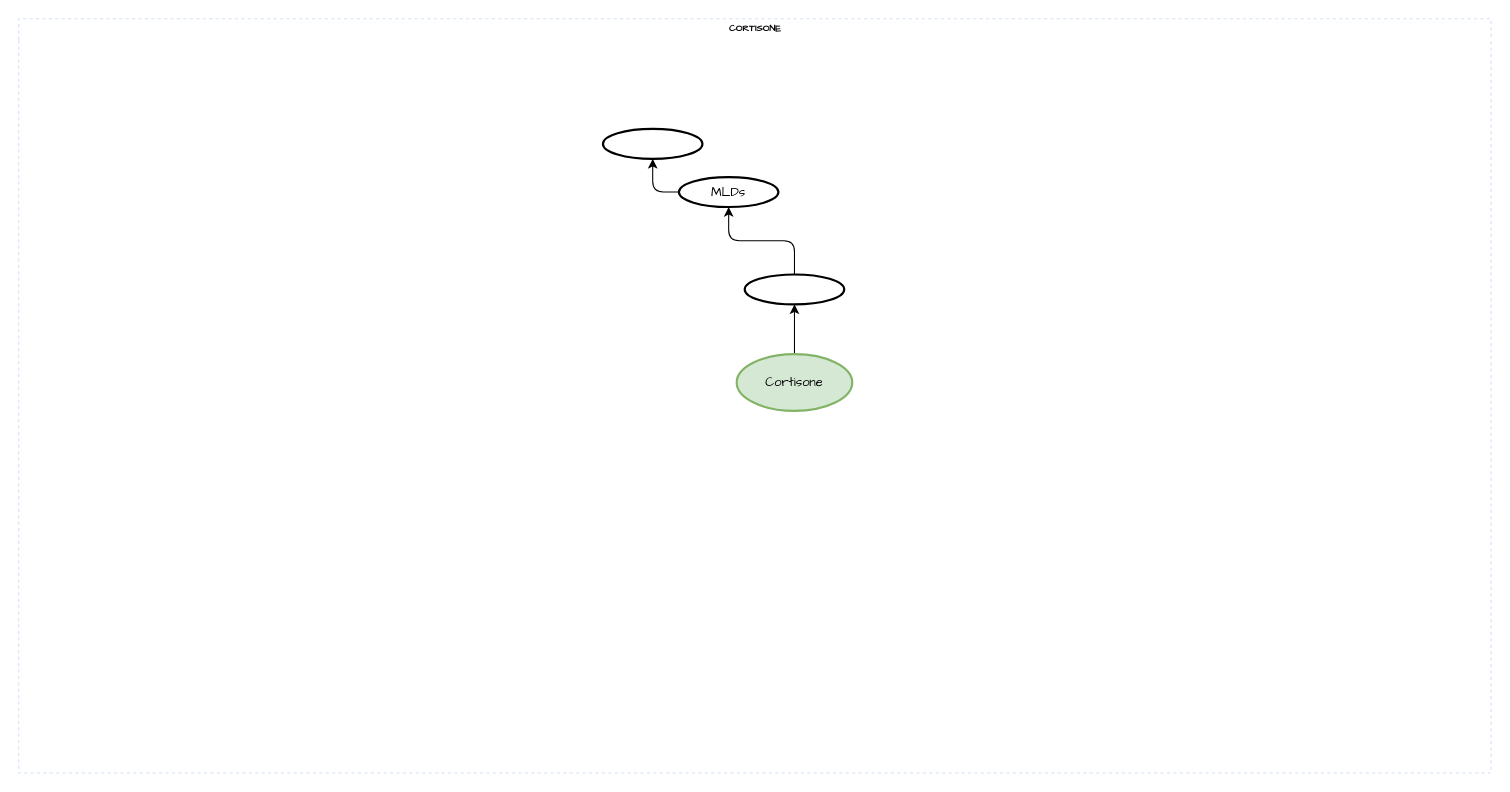
This 1510x792 diagram has some shape labels left out. Here are the shapes that lost their labels. From the top down, the centre of each, then its label:
the point at 652,143: Who?
the point at 794,289: EHR
